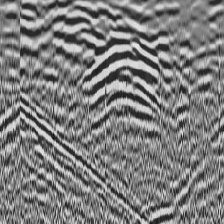cavities: (81, 18, 163, 130)
